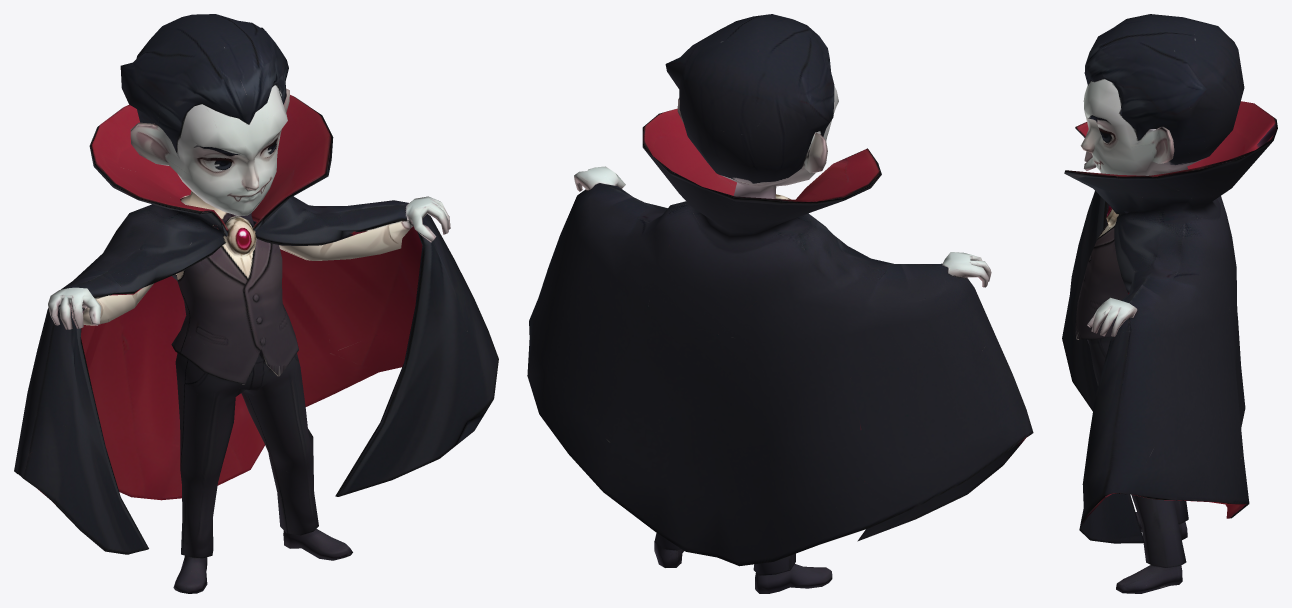
3 renders of one model, left to right at view 1: azimuth 30°, elevation 25°; view 2: azimuth 150°, elevation 25°; view 3: azimuth 270°, elevation 25°, orthographic. The views are drawn at different scales.
Size of the model in its own units: 0.9282 by 1 by 0.3761.
1 material, 1 textured.
